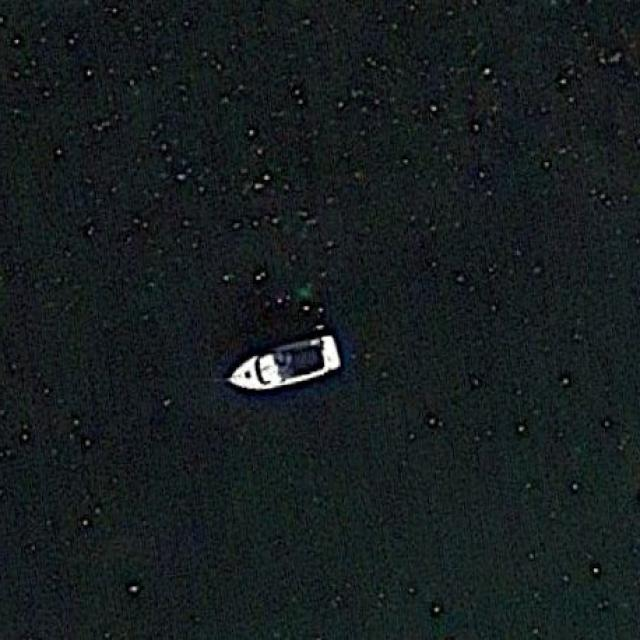ship: (226, 331, 344, 391)
